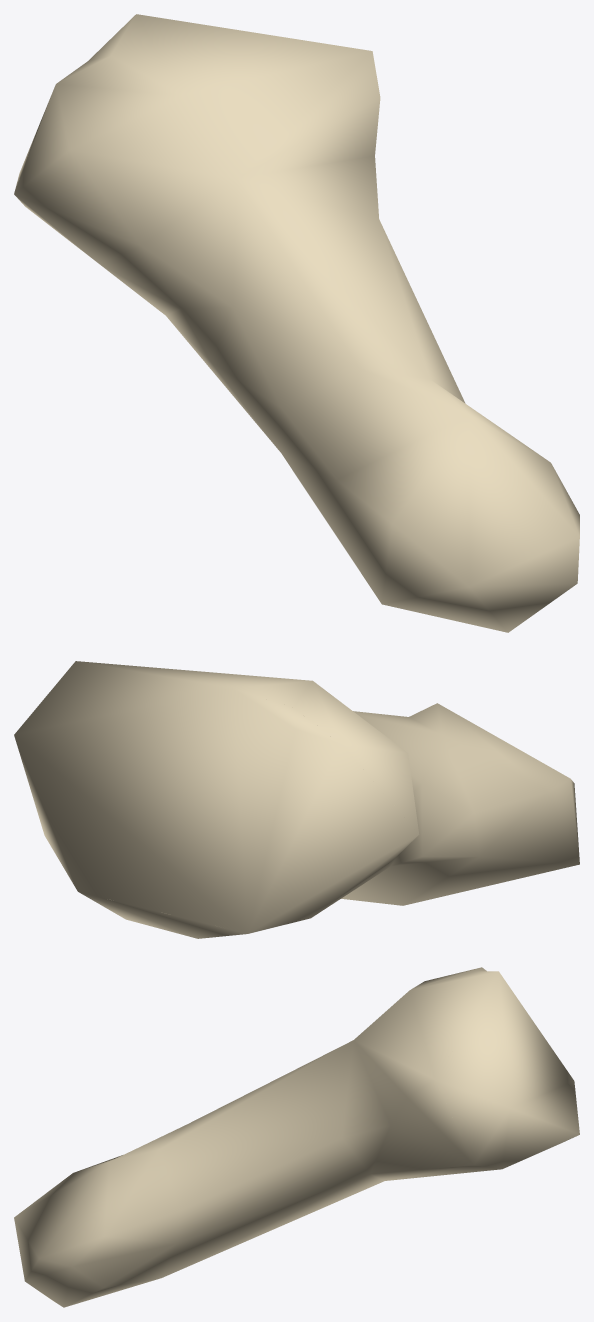
Rendered from esqueleto-distal-phalanx-of-fourth-finger-of-hand-l.glb.
3 views of the same model, one above another, from view 1: azimuth 30°, elevation 25°; view 2: azimuth 150°, elevation 25°; view 3: azimuth 270°, elevation 25° (orthographic). The views are drawn at different scales.
Visible parts, largest first — view 1: Distal phalanx of fourth finger of hand.l; view 2: Distal phalanx of fourth finger of hand.l; view 3: Distal phalanx of fourth finger of hand.l.
Part boxes in pixels (bbox=[...]): Distal phalanx of fourth finger of hand.l: bbox=[14, 14, 579, 632]; Distal phalanx of fourth finger of hand.l: bbox=[14, 661, 579, 938]; Distal phalanx of fourth finger of hand.l: bbox=[14, 967, 579, 1307].
Bounding box in the file's own units: 0.00861 × 0.0096 × 0.0162.
